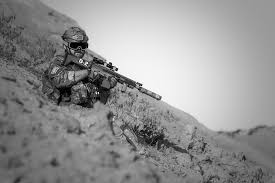gun: (62, 53, 163, 101)
